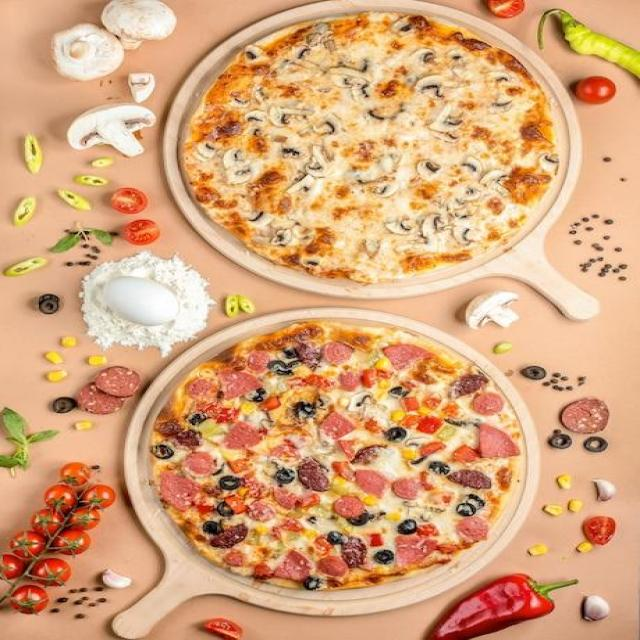basil: (0, 403, 63, 472), (56, 219, 111, 256)
olive: (458, 492, 484, 516), (270, 360, 305, 375), (39, 293, 61, 314), (49, 397, 79, 412), (271, 468, 298, 483), (521, 364, 545, 380), (582, 436, 606, 452), (372, 549, 397, 564), (185, 410, 208, 426), (549, 433, 572, 448), (429, 460, 451, 475), (383, 427, 408, 440), (216, 500, 236, 516), (398, 520, 419, 535), (345, 514, 370, 526), (151, 446, 174, 459), (457, 503, 476, 517), (220, 475, 240, 488), (210, 459, 225, 475), (204, 520, 221, 534), (389, 388, 408, 399), (280, 348, 300, 358), (305, 574, 319, 588), (326, 531, 342, 543), (413, 455, 428, 466), (306, 516, 316, 524)
pepperoni: (393, 534, 444, 568), (159, 471, 202, 511), (560, 400, 612, 433), (74, 382, 127, 414), (477, 424, 519, 460), (154, 418, 203, 446), (374, 344, 426, 368), (217, 372, 262, 399), (96, 370, 142, 395), (291, 461, 331, 488), (222, 424, 265, 449), (207, 524, 249, 549), (446, 372, 484, 397), (275, 552, 311, 578), (446, 469, 492, 489), (351, 470, 386, 496), (320, 412, 354, 438), (340, 534, 366, 568), (181, 449, 216, 474), (353, 440, 385, 465), (472, 391, 506, 414), (186, 379, 222, 400), (315, 553, 346, 577), (334, 493, 364, 517), (387, 479, 422, 499), (323, 341, 353, 364), (268, 441, 301, 461), (459, 517, 487, 540), (245, 501, 275, 521), (242, 476, 270, 497), (241, 352, 269, 372), (335, 370, 364, 388), (272, 487, 296, 508), (337, 438, 356, 458), (221, 551, 241, 564)
pizza: (173, 13, 566, 284), (149, 322, 522, 594)
